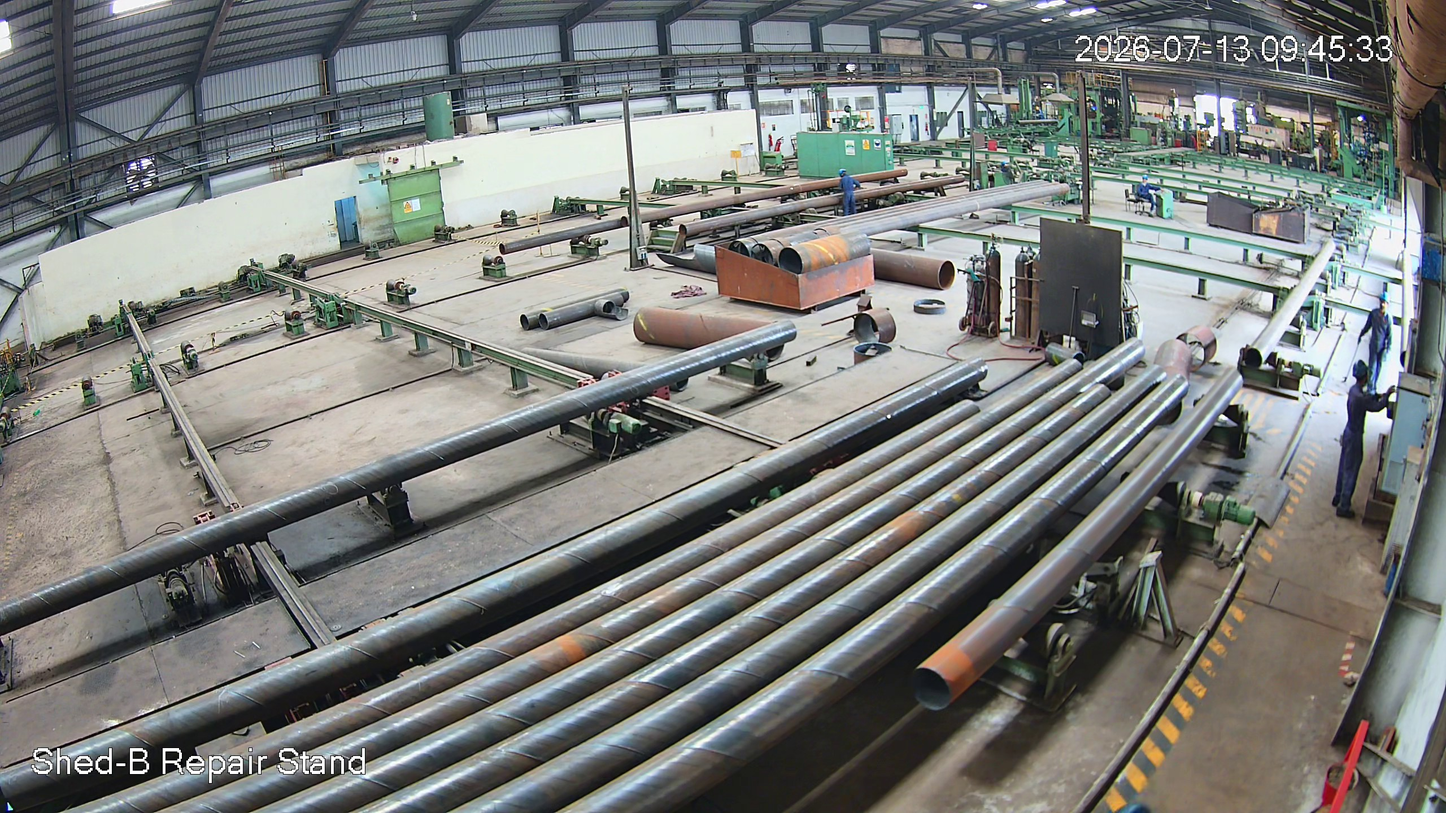Helmet: (1350, 360, 1375, 395), (1377, 290, 1393, 315), (837, 167, 852, 183)
Person: (1335, 364, 1378, 527), (1361, 294, 1394, 386), (838, 169, 858, 214)
